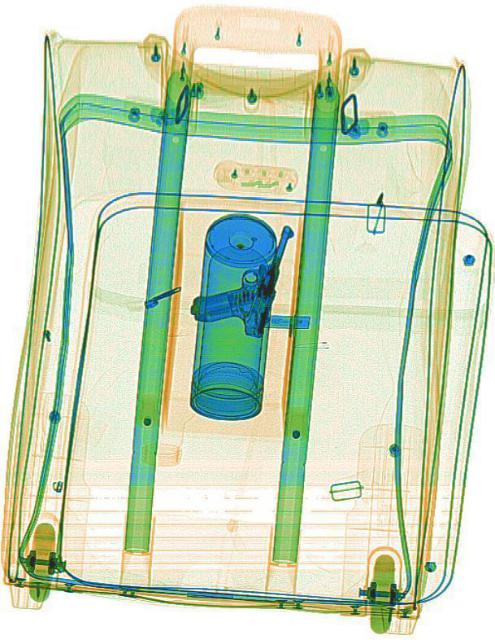Gun: (186, 196, 295, 348)
